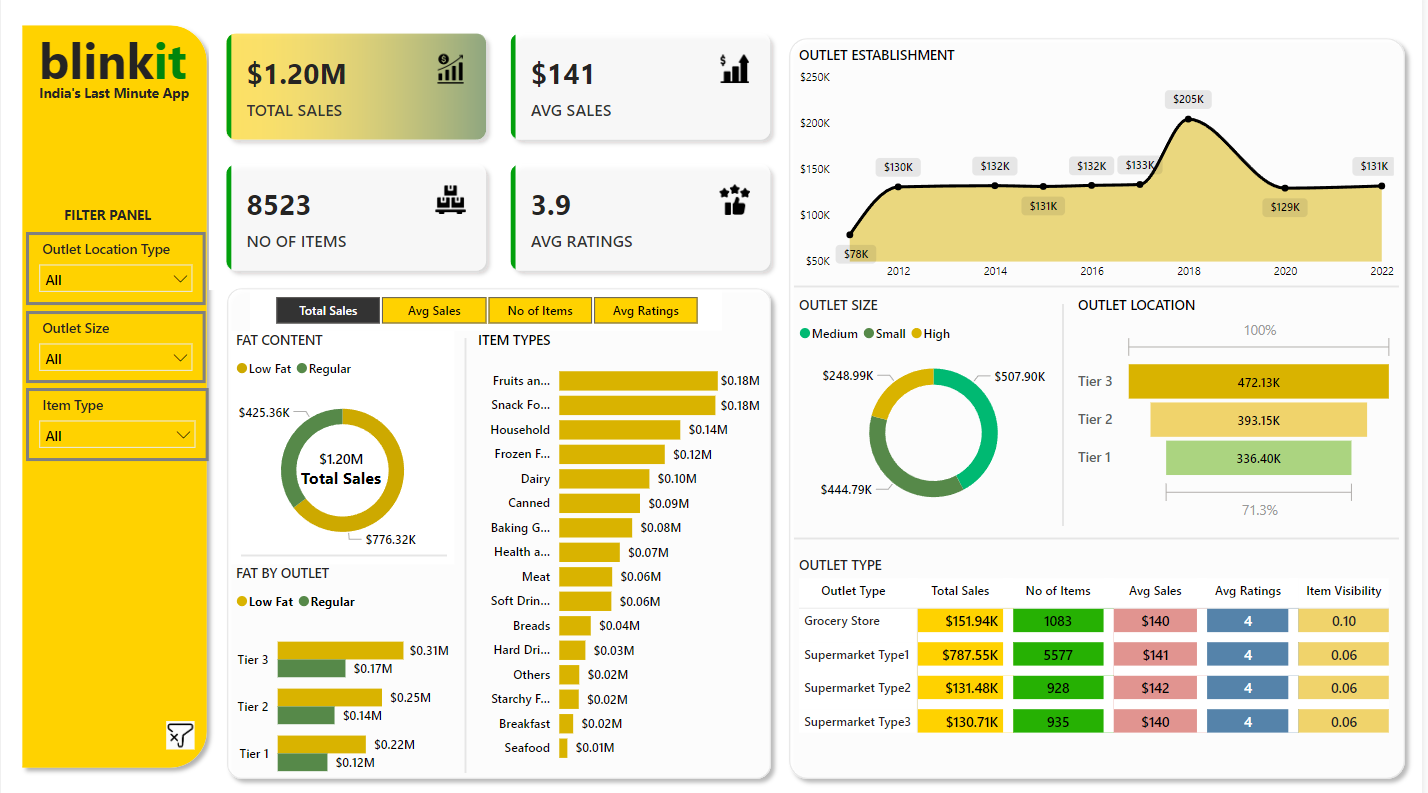

What the dashboard file says about the page in this screenshot:
{"tool":"powerbi","page":{"name":"Page 1","canvas":[1400,800],"ordinal":0},"visuals":[{"type":"shape","box":[11.8,24.6,200,749.8],"z":0},{"type":"textbox","box":[32.5,29.6,172.4,79.8],"z":1000},{"type":"textbox","box":[32.5,86.7,172.4,30.5],"z":2000},{"type":"cardVisual","fields":{"Data":["BlinkIT Grocery Data.Total Sales","BlinkIT Grocery Data.Avg Sales","BlinkIT Grocery Data.No of Items","BlinkIT Grocery Data.Avg Ratings"]},"box":[204.9,24.6,570.4,270],"z":3000},{"type":"shape","box":[213.8,283.7,553.7,501.5],"z":4000},{"type":"donutChart","title":"FAT CONTENT","fields":{"Y":["BlinkIT Grocery Data.Total Sales"],"Category":["BlinkIT Grocery Data.Item Fat Content"]},"box":[226.6,335,219.7,229.6],"z":5000},{"type":"slicer","fields":{"Values":["matrics.matrics"]},"box":[245.3,294.6,465,40.4],"z":6000},{"type":"cardVisual","fields":{"Data":["BlinkIT Grocery Data.Total Sales"]},"box":[268,427.6,135,85.7],"z":7000},{"type":"clusteredBarChart","title":"FAT BY OUTLET","fields":{"Y":["BlinkIT Grocery Data.Total Sales"],"Category":["BlinkIT Grocery Data.Outlet Location Type"],"Series":["BlinkIT Grocery Data.Item Fat Content"]},"box":[226.6,564.5,219.7,229.6],"z":8000},{"type":"shape","box":[236.5,538.9,203,34.5],"z":9000},{"type":"shape","box":[417.7,341.9,79.8,428.6],"z":10000},{"type":"barChart","title":"ITEM TYPES","fields":{"Y":["BlinkIT Grocery Data.Total Sales"],"Category":["BlinkIT Grocery Data.Item Type"]},"box":[465,335,287.7,435.5],"z":11000},{"type":"shape","box":[767.5,37.4,624.6,747.8],"z":12000},{"type":"lineChart","title":"OUTLET ESTABLISHMENT","fields":{"Y":["BlinkIT Grocery Data.Total Sales"],"Category":["BlinkIT Grocery Data.Outlet Establishment Year"]},"box":[781.3,54.2,596.1,240.4],"z":13000},{"type":"shape","box":[781.3,273.9,596.1,34.5],"z":14000},{"type":"donutChart","title":"OUTLET SIZE","fields":{"Y":["BlinkIT Grocery Data.Total Sales"],"Category":["BlinkIT Grocery Data.Outlet Size"]},"box":[781.3,300.5,274.9,224.6],"z":15000},{"type":"shape","box":[1036.5,308.4,19.7,218.7],"z":16000},{"type":"funnel","title":"OUTLET LOCATION","fields":{"Y":["Sum(BlinkIT Grocery Data.Sales)"],"Category":["BlinkIT Grocery Data.Outlet Location Type"]},"box":[1056.2,300.5,321.2,226.6],"z":17000},{"type":"shape","box":[781.3,522.2,596.1,34.5],"z":18000},{"type":"pivotTable","title":"OUTLET TYPE","fields":{"Rows":["BlinkIT Grocery Data.Outlet Type"],"Values":["BlinkIT Grocery Data.Total Sales","BlinkIT Grocery Data.No of Items","BlinkIT Grocery Data.Avg Sales","BlinkIT Grocery Data.Avg Ratings","Avg(BlinkIT Grocery Data.Item Visibility)"]},"box":[781.3,556.7,596.1,214.8],"z":19000},{"type":"slicer","fields":{"Values":["BlinkIT Grocery Data.Outlet Location Type"]},"box":[24.6,237.4,177.3,71.9],"z":20000},{"type":"slicer","fields":{"Values":["BlinkIT Grocery Data.Outlet Size"]},"box":[24.6,315.3,177.3,70.9],"z":21000},{"type":"slicer","fields":{"Values":["BlinkIT Grocery Data.Item Type"]},"box":[24.6,391.1,180.3,71.9],"z":22000},{"type":"textbox","box":[57.1,206.9,109.4,30.5],"z":23000},{"type":"image","box":[150.7,714.3,51.2,38.4],"z":23001}]}

Visuals, with their boxes in screenshot pixels (x1, y1, x2, y2), scaled from the page's 1400x800 canvas onto the 1428x793 screenshot:
shape: crop(12, 24, 216, 768)
textbox: crop(33, 29, 209, 108)
textbox: crop(33, 86, 209, 116)
cardVisual - BlinkIT Grocery Data.Total Sales x BlinkIT Grocery Data.Avg Sales: crop(209, 24, 791, 292)
shape: crop(218, 281, 783, 778)
"FAT CONTENT" donutChart: crop(231, 332, 455, 560)
slicer - matrics.matrics: crop(250, 292, 725, 332)
cardVisual - BlinkIT Grocery Data.Total Sales: crop(273, 424, 411, 509)
"FAT BY OUTLET" clusteredBarChart: crop(231, 560, 455, 787)
shape: crop(241, 534, 448, 568)
shape: crop(426, 339, 507, 764)
"ITEM TYPES" barChart: crop(474, 332, 768, 764)
shape: crop(783, 37, 1420, 778)
"OUTLET ESTABLISHMENT" lineChart: crop(797, 54, 1405, 292)
shape: crop(797, 272, 1405, 306)
"OUTLET SIZE" donutChart: crop(797, 298, 1077, 521)
shape: crop(1057, 306, 1077, 522)
"OUTLET LOCATION" funnel: crop(1077, 298, 1405, 522)
shape: crop(797, 518, 1405, 552)
"OUTLET TYPE" pivotTable: crop(797, 552, 1405, 765)
slicer - BlinkIT Grocery Data.Outlet Location Type: crop(25, 235, 206, 307)
slicer - BlinkIT Grocery Data.Outlet Size: crop(25, 313, 206, 383)
slicer - BlinkIT Grocery Data.Item Type: crop(25, 388, 209, 459)
textbox: crop(58, 205, 170, 235)
image: crop(154, 708, 206, 746)
